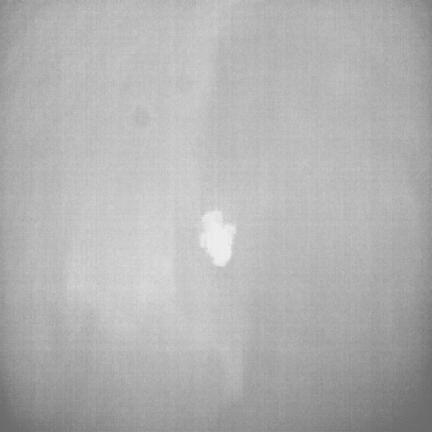flukeprints: (199, 210, 236, 267)
